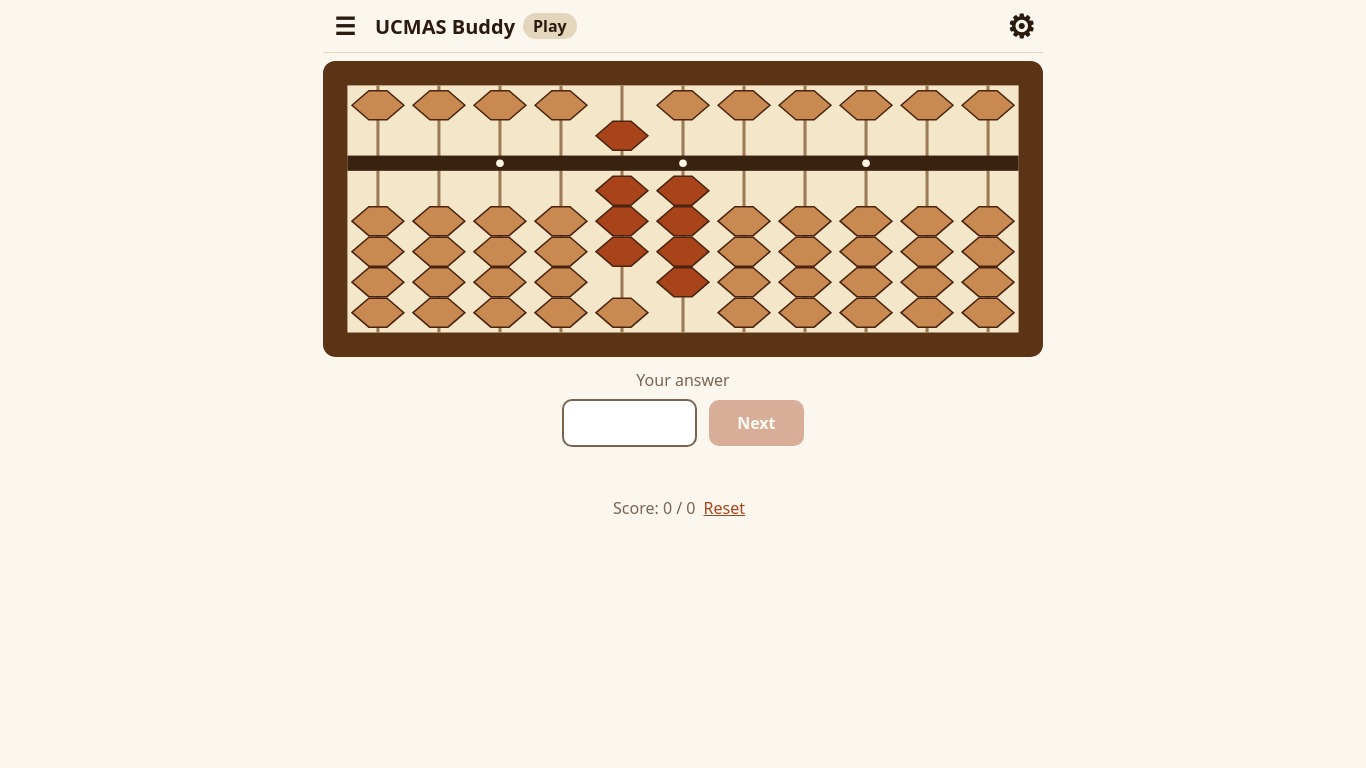
Test: <App> › opens settings from the header settings button
Click the button named "open settings": [1021, 26] box [999,4,1043,48]
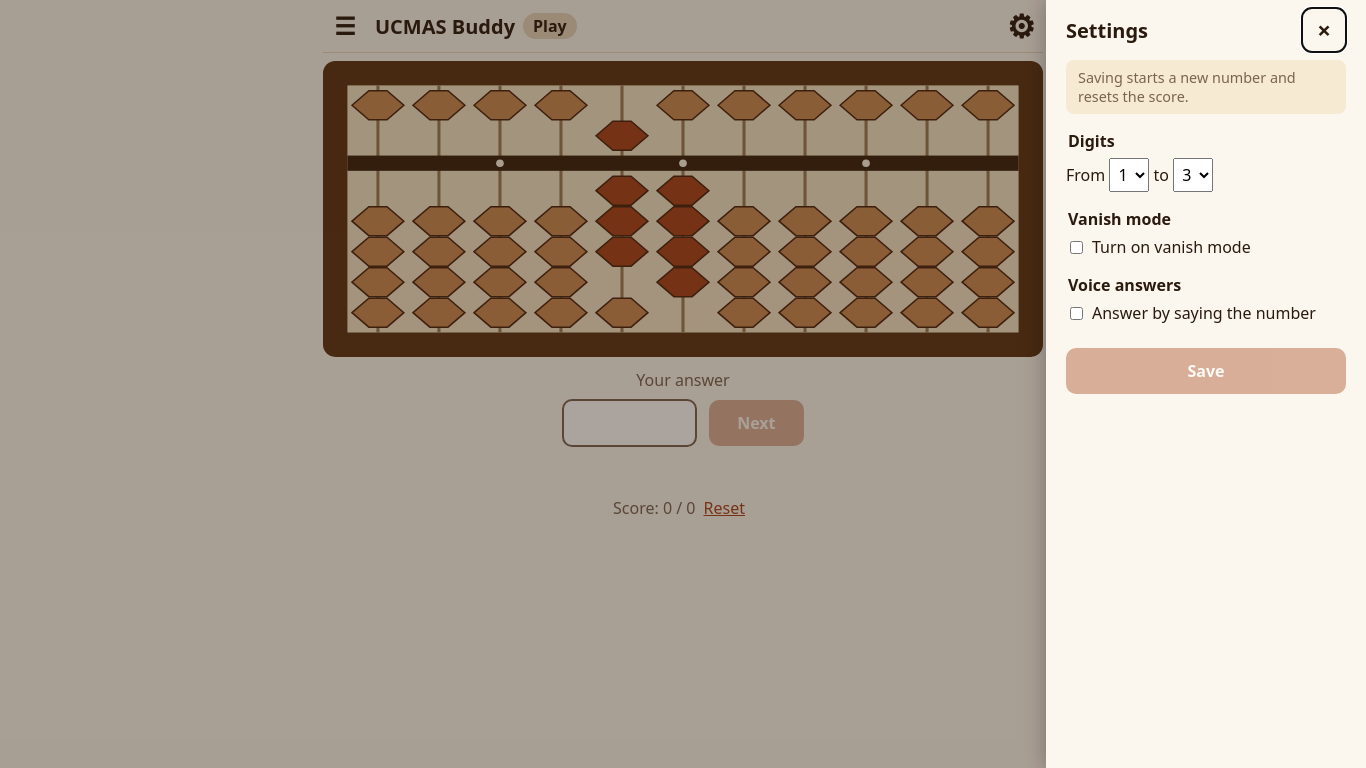
Result: the dialog "Settings" is shown at [1046,0,1365,767]
Result: the text "Saving starts a new number and resets the score." is shown at [1066,60,1346,114]
